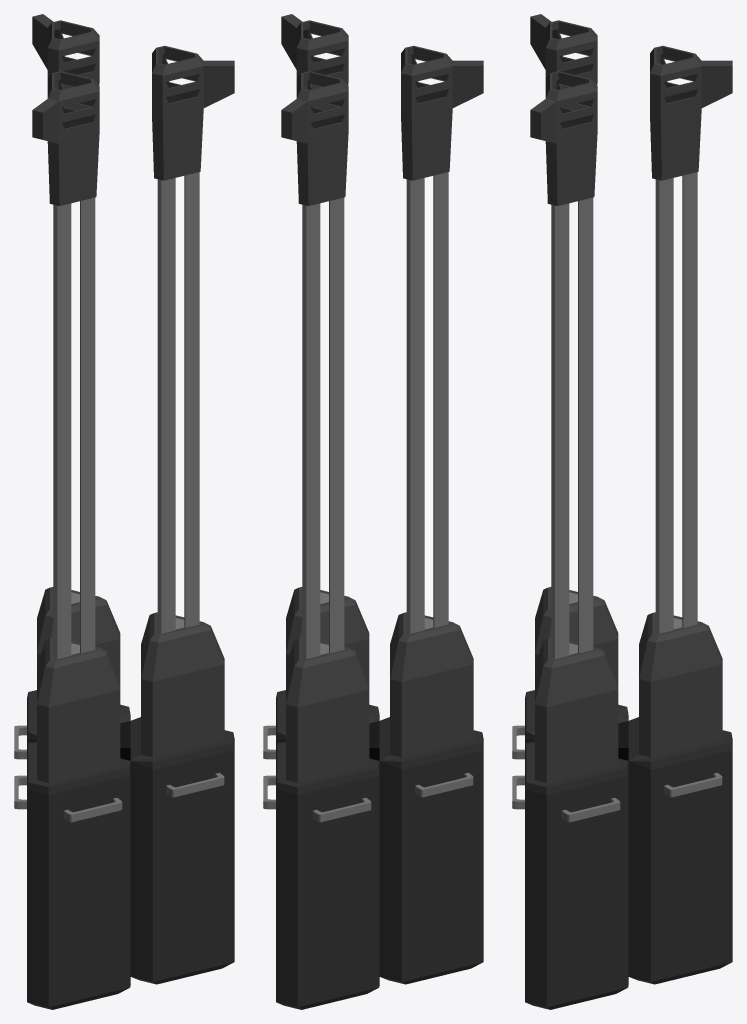
Rendered from Wea_JiGuangPao_1X6_off.FBX.
The picture shows the model from 3 angles, left to right: view 1: azimuth 30°, elevation 25°; view 2: azimuth 150°, elevation 25°; view 3: azimuth 270°, elevation 25°; orthographic projection.
Parts seen in each view (by area): view 1: Box002; view 2: Box002; view 3: Box002.
Part boxes in pixels (x1,y1,x2,y2): Box002: [14, 14, 234, 1009]; Box002: [263, 14, 483, 1009]; Box002: [512, 14, 732, 1009].
Bounding box in the file's own units: 1.45 × 6 × 1.32.
